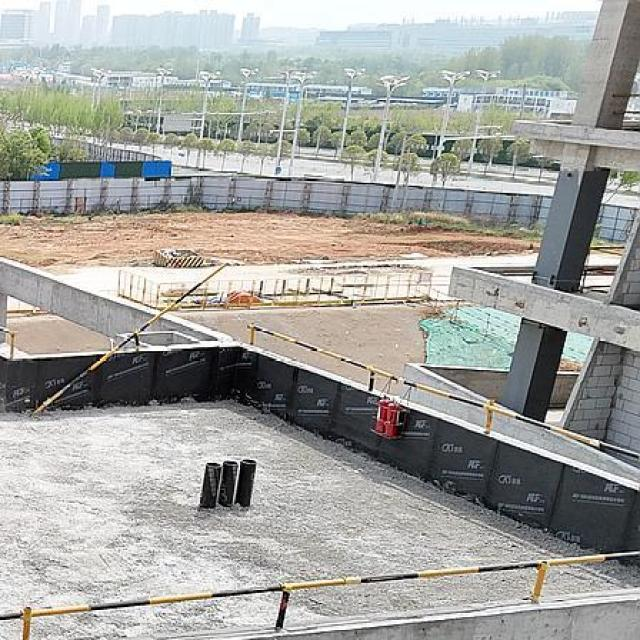edge_guardrail: (0, 321, 640, 640), (31, 262, 230, 418), (576, 246, 625, 295), (613, 93, 640, 128)
